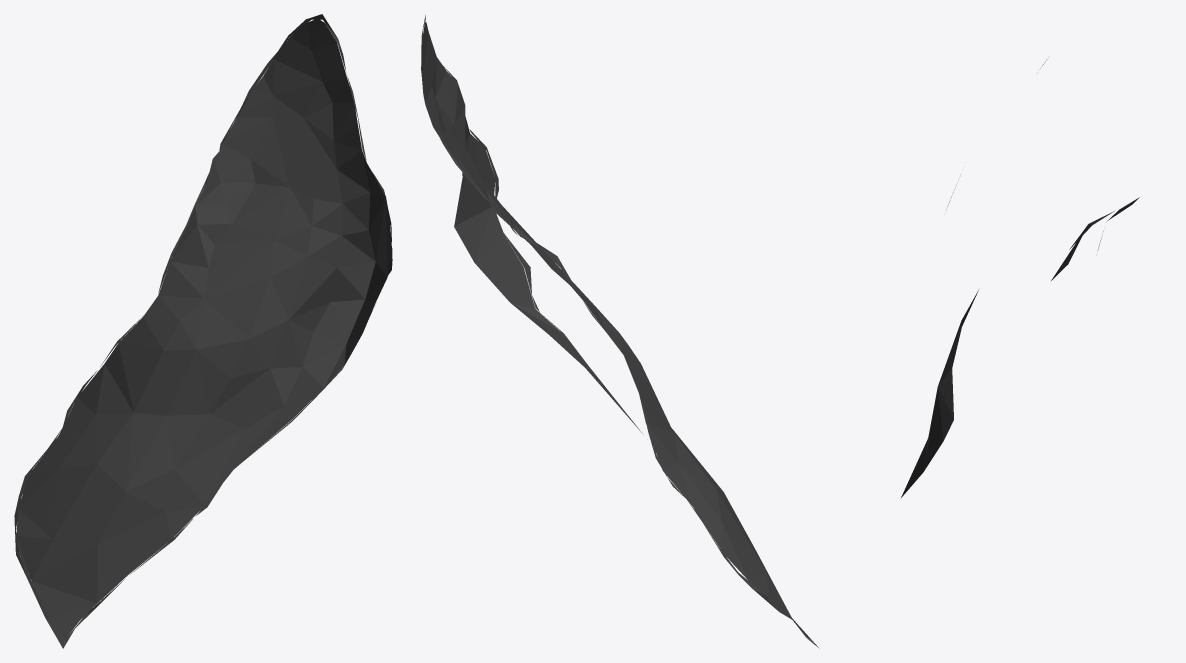
File: M_pectineus_M_pectineus.glb
The picture shows the model from 3 angles, left to right: view 1: azimuth 30°, elevation 25°; view 2: azimuth 150°, elevation 25°; view 3: azimuth 270°, elevation 25°; orthographic projection. The views are drawn at different scales.
Visible parts, largest first — view 1: M_pectineus_M_pectineus; view 2: M_pectineus_M_pectineus; view 3: M_pectineus_M_pectineus.
Part boxes in pixels (x1,y1,x2,y2): M_pectineus_M_pectineus: (14, 14, 392, 648); M_pectineus_M_pectineus: (421, 15, 819, 648); M_pectineus_M_pectineus: (901, 59, 1139, 497).
Bounding box in the file's own units: 0.0132 × 0.0205 × 0.00677.
Materials: 1 (1 with a texture image).
